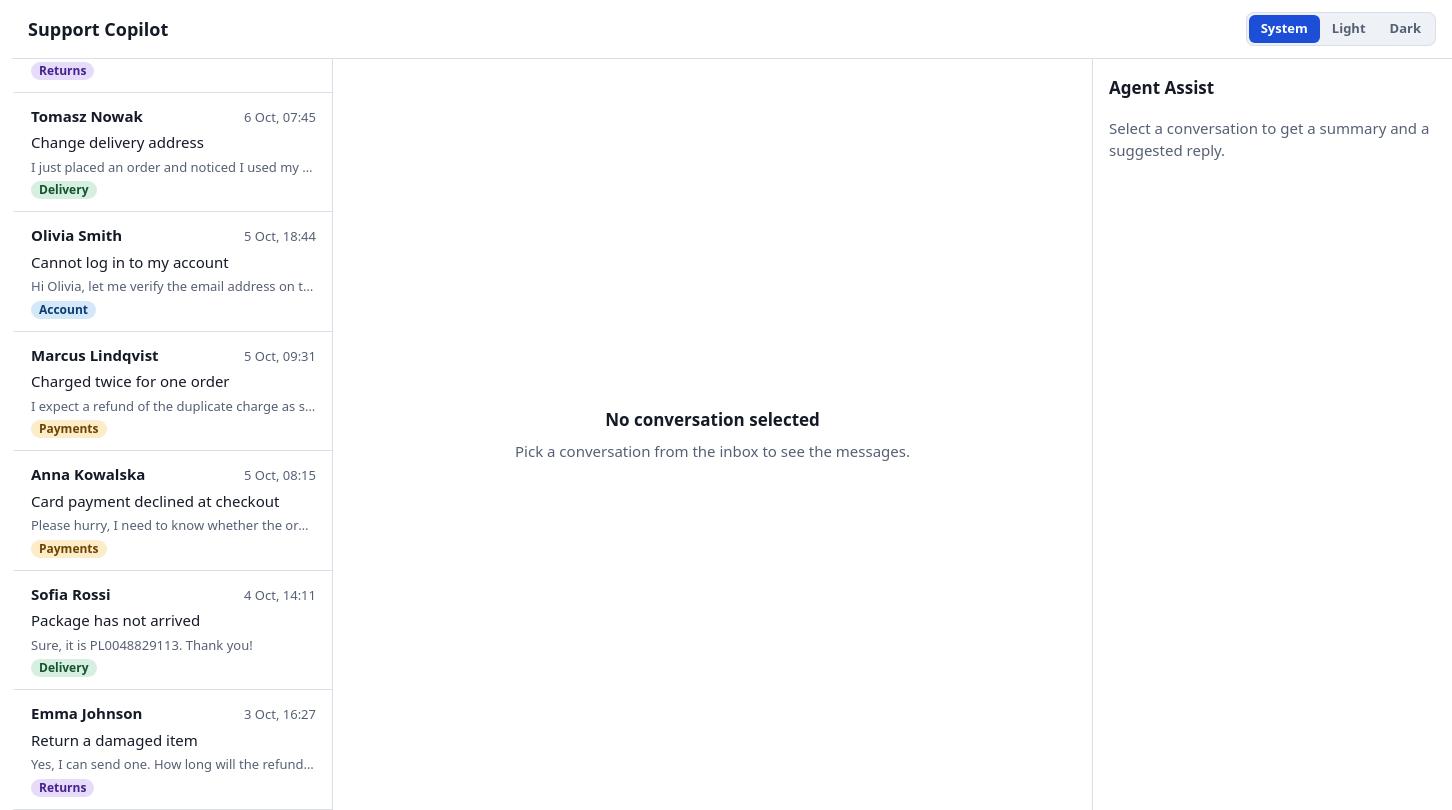
Test: AssistPanel › analysis › explains a network failure instead of a generic error
The width and height of the screenshot is (1452, 810).
(page scrolled)
Click the button "Anna Kowalska".
click(172, 511)  # box [12,451,332,570]
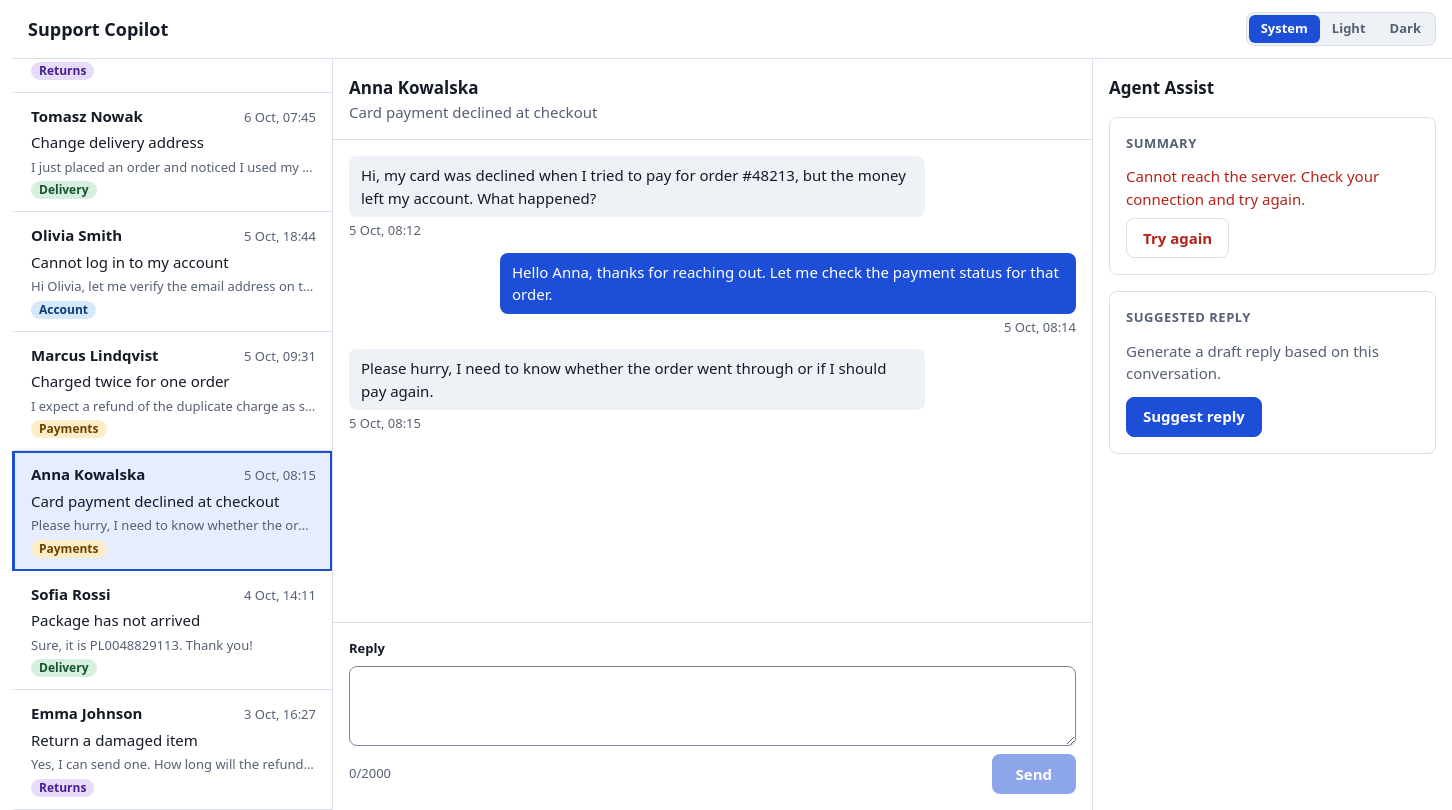
Expected: the message shows "Cannot reach the server", [1126,166,1379,208]
